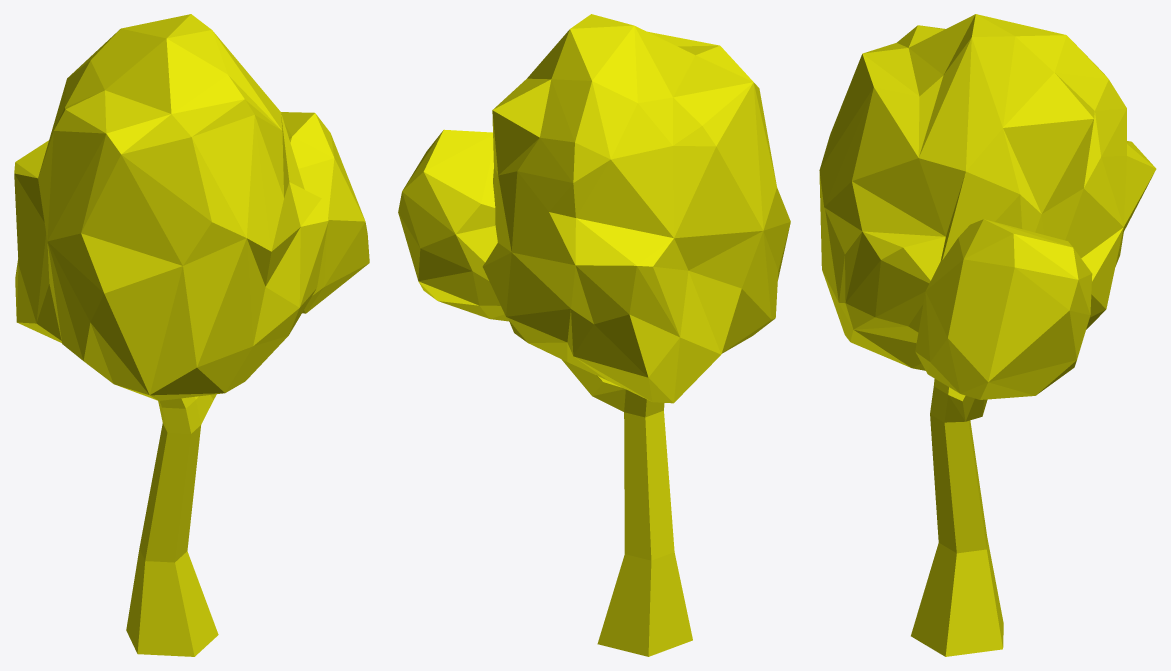
The model's file is SM_Generic_Tree_04.glb.
3 views of the same model, side by side, from view 1: azimuth 30°, elevation 25°; view 2: azimuth 150°, elevation 25°; view 3: azimuth 270°, elevation 25° (orthographic). The views are drawn at different scales.
Parts seen in each view (by area): view 1: SM_Generic_Tree_04; view 2: SM_Generic_Tree_04; view 3: SM_Generic_Tree_04.
Part boxes in pixels (<box>): SM_Generic_Tree_04: <box>14,14,369,656</box>; SM_Generic_Tree_04: <box>398,14,790,656</box>; SM_Generic_Tree_04: <box>819,14,1156,656</box>.
Size of the model in its own units: 1.82 by 3.22 by 1.54.
1 material, 1 textured.
